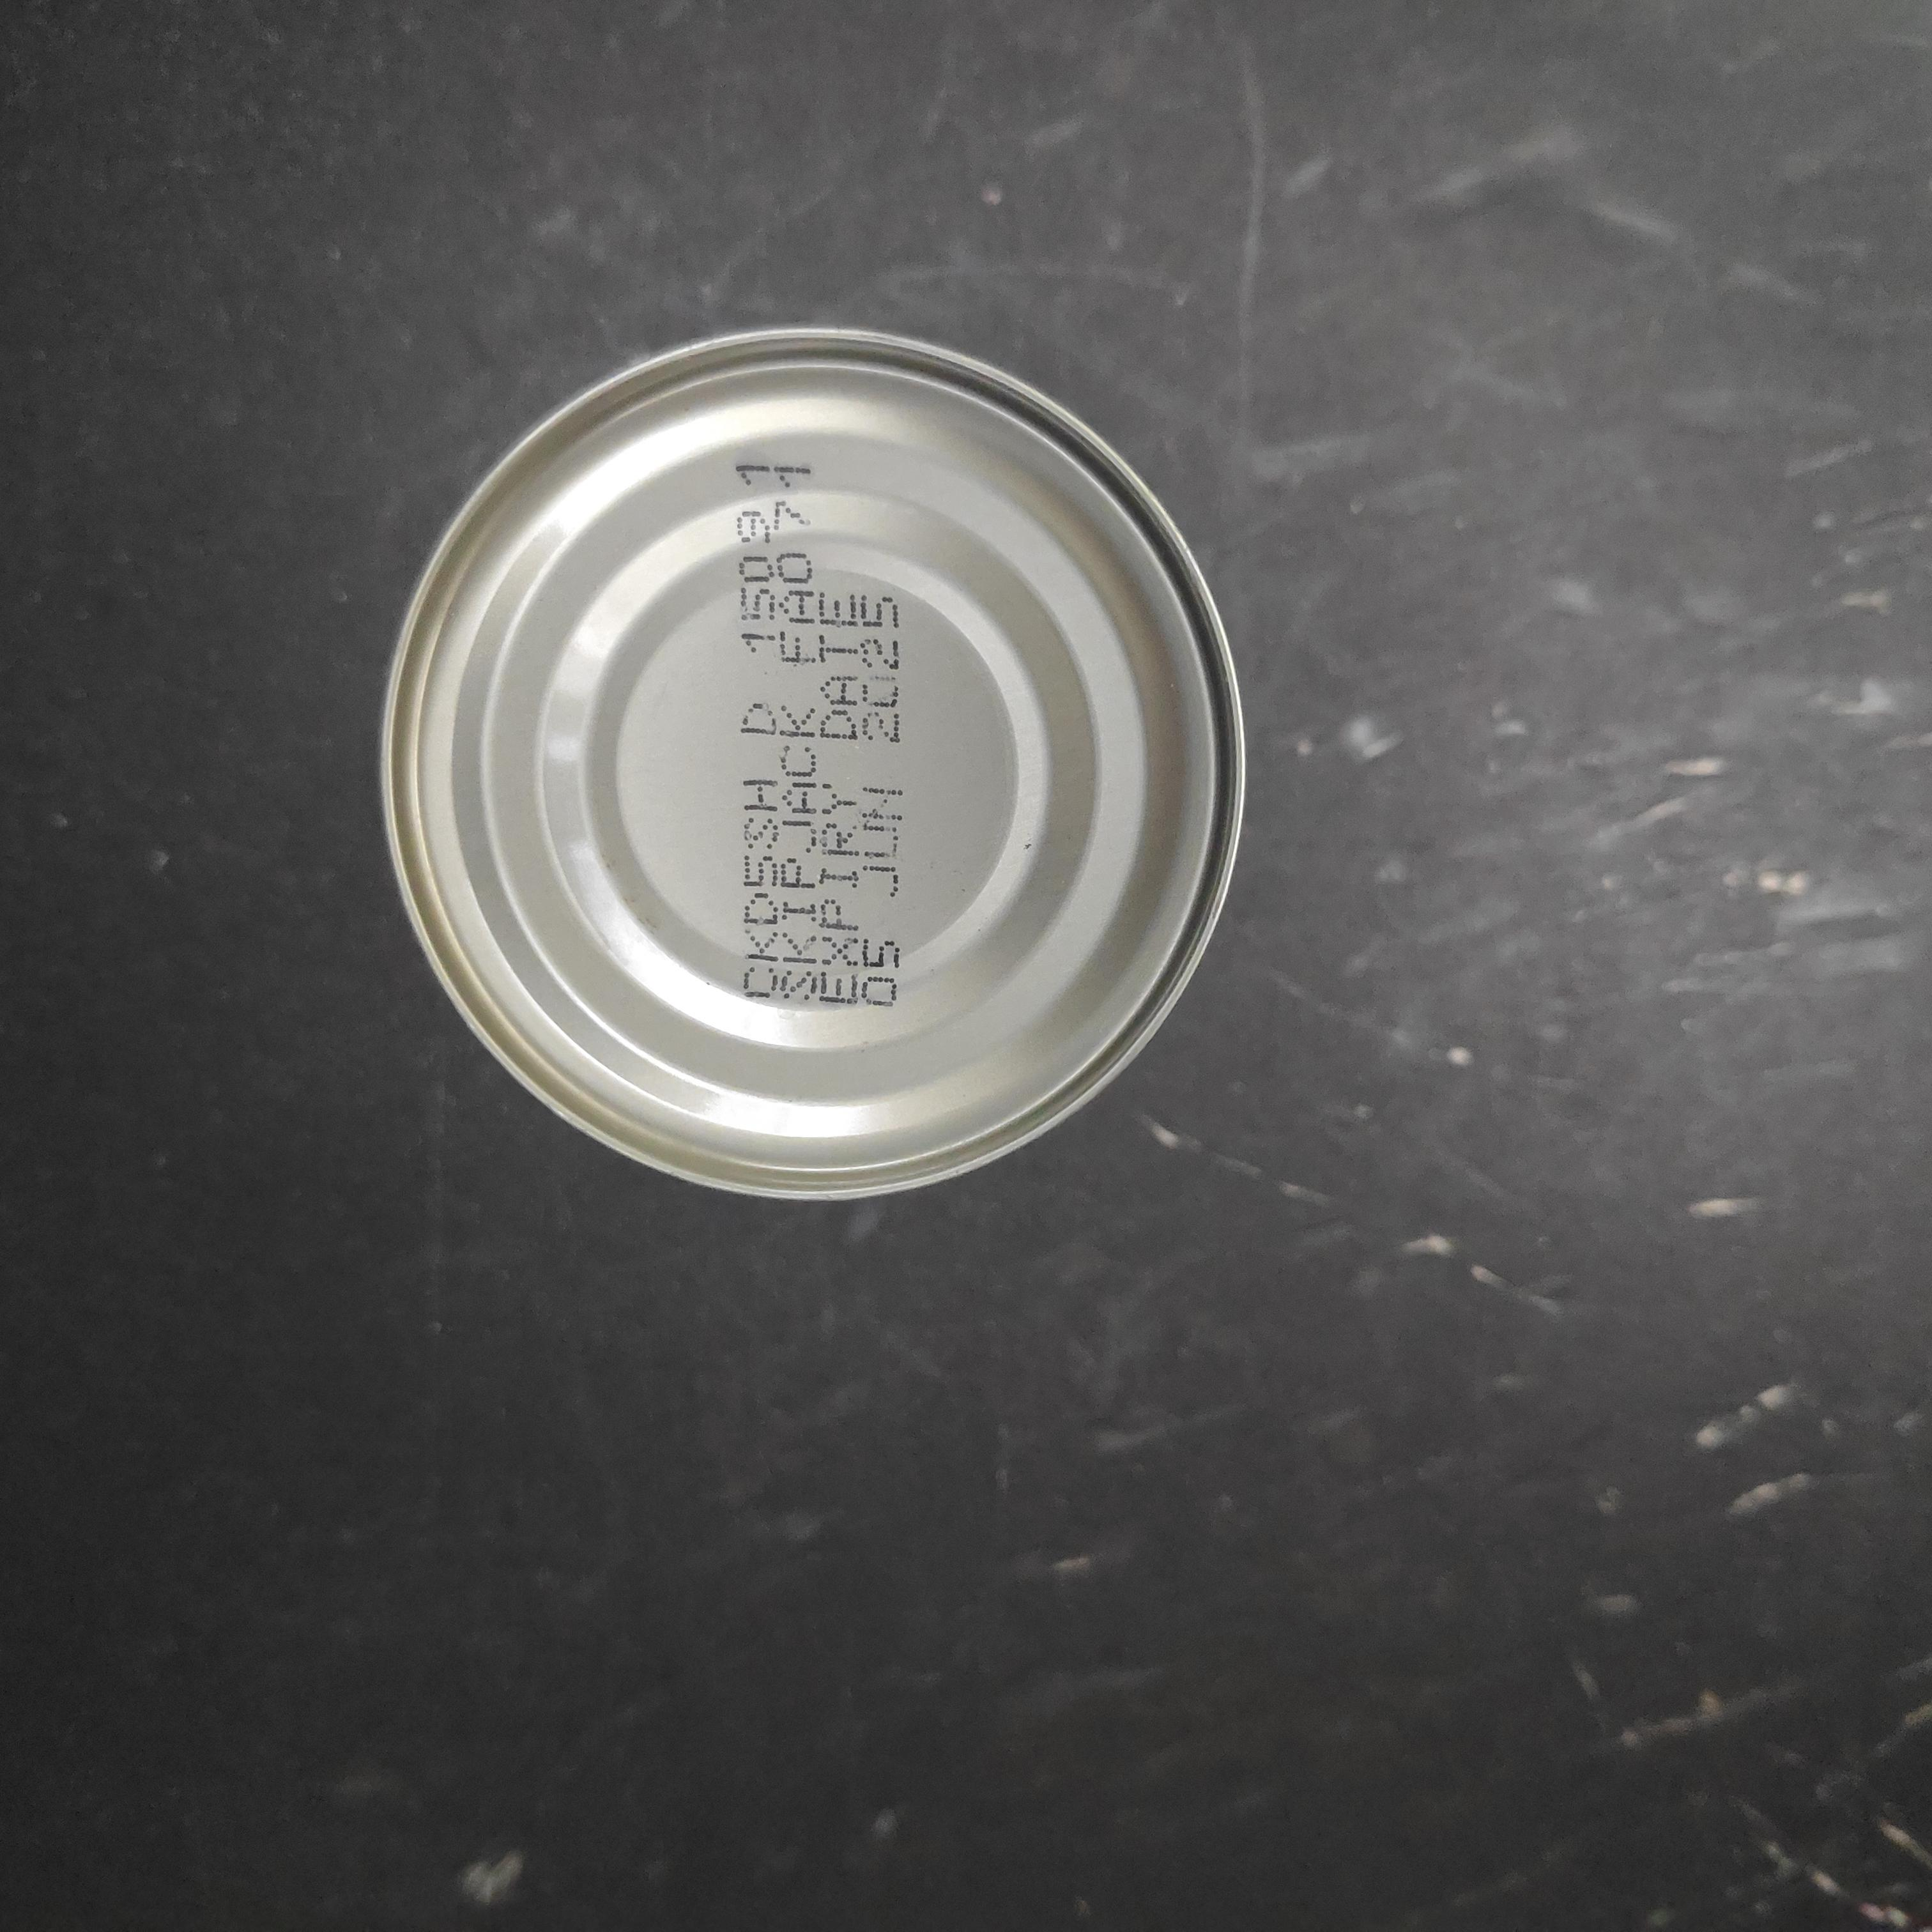No defect: (669, 717, 1580, 1626)
